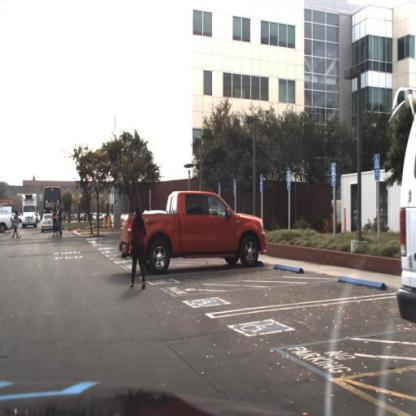car: (119, 190, 269, 273), (41, 212, 58, 232)
pedestrian: (128, 204, 154, 292), (57, 199, 64, 240), (52, 201, 59, 237), (14, 211, 21, 238), (12, 217, 18, 240)
truck: (42, 184, 66, 219), (21, 191, 42, 229), (1, 204, 14, 234)
